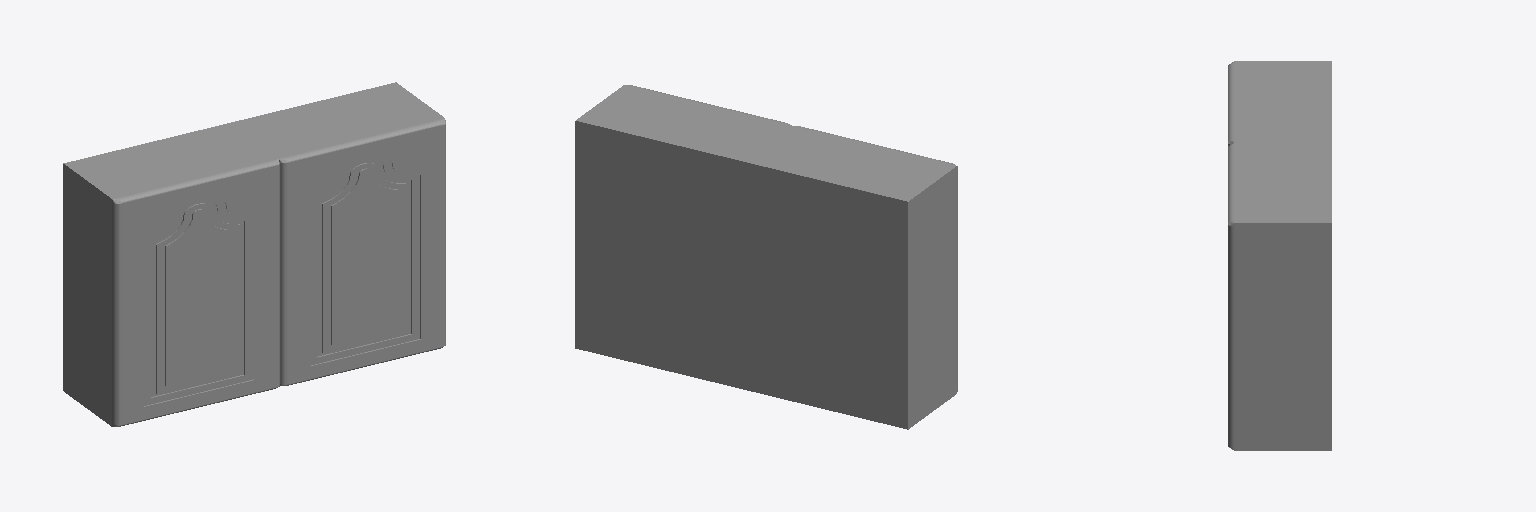
Rendered from double-wall-unit-1100.obj.
The picture shows the model from 3 angles: view 1: azimuth 30°, elevation 25°; view 2: azimuth 150°, elevation 25°; view 3: azimuth 270°, elevation 25°; orthographic projection.
Visible parts, largest first — view 1: Cube.003_Cube.008, Cube.004_Cube.000, Cube_Cube.002, Cube.002_Cube.004; view 2: Cube_Cube.002, Cube.002_Cube.004, Cube.001_Cube.003; view 3: Cube.001_Cube.003, Cube_Cube.002, Cube.004_Cube.000, Cube.003_Cube.008.
Part boxes in pixels (left/top/right/bottom): Cube.003_Cube.008: left=112, top=159, right=279, bottom=426; Cube.004_Cube.000: left=279, top=118, right=445, bottom=386; Cube_Cube.002: left=68, top=83, right=439, bottom=197; Cube.002_Cube.004: left=63, top=162, right=115, bottom=426; Cube_Cube.002: left=580, top=86, right=951, bottom=428; Cube.002_Cube.004: left=904, top=165, right=956, bottom=429; Cube.001_Cube.003: left=575, top=85, right=627, bottom=349; Cube.001_Cube.003: left=1235, top=221, right=1331, bottom=450; Cube_Cube.002: left=1235, top=63, right=1331, bottom=220; Cube.004_Cube.000: left=1228, top=142, right=1234, bottom=450; Cube.003_Cube.008: left=1228, top=61, right=1234, bottom=145.
Bounding box in the file's own units: 220 × 144 × 60.